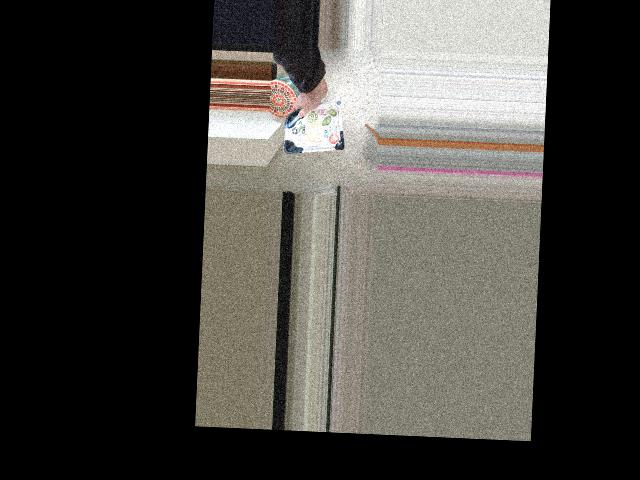cheese: (292, 90, 345, 139)
